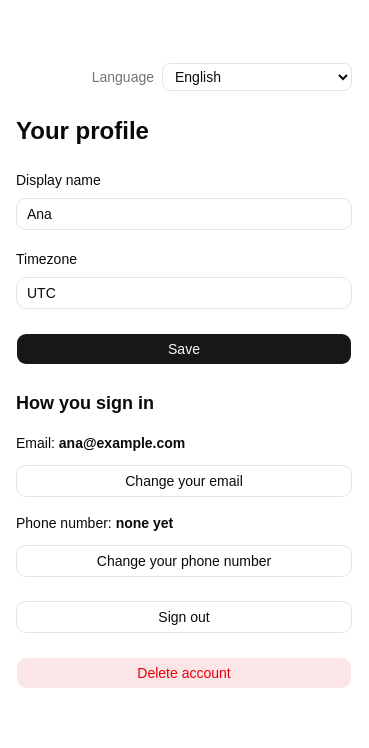
Test: deleting the account › asks twice, deletes, and leaves the person signed out
Step 1. Click the button "Delete account" → (184, 673), box [16, 657, 352, 689]
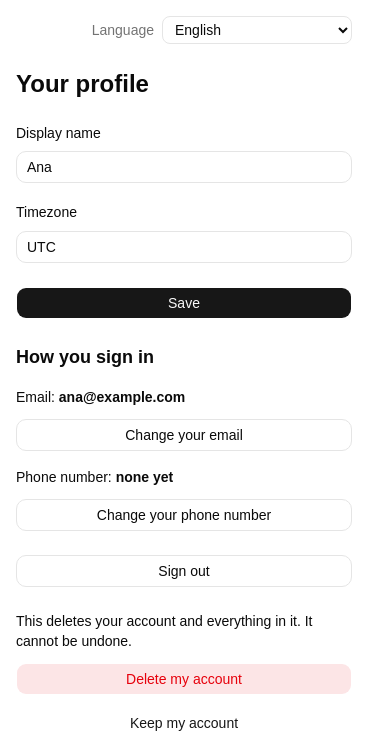
Expected: the message reads "This deletes your account and everything in it. It cannot be undone.", [16, 612, 312, 648]
Step 2. Click the button "Delete my account" → (184, 678), box [16, 662, 352, 694]
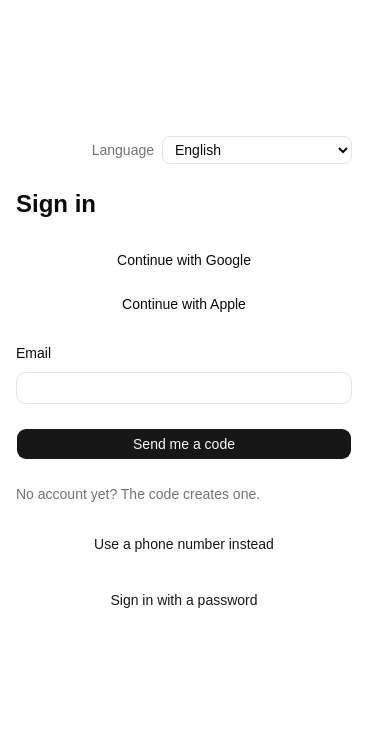
Expected: the heading "Sign in" is shown, [16, 190, 96, 217]
